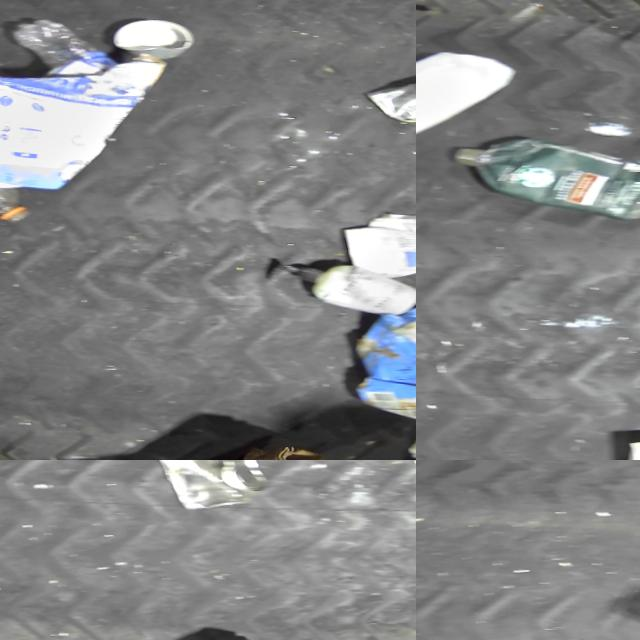can: (143, 460, 273, 513), (338, 223, 416, 281), (107, 14, 193, 60), (362, 72, 416, 133), (363, 207, 416, 230)
milk_jug: (416, 45, 514, 148)
plastic_bottle: (4, 15, 119, 73), (0, 159, 34, 222)
